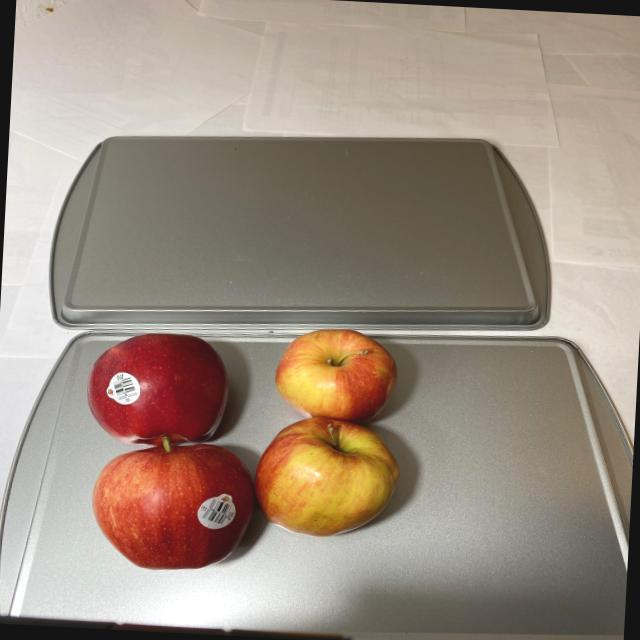apple: (74, 316, 407, 582)
